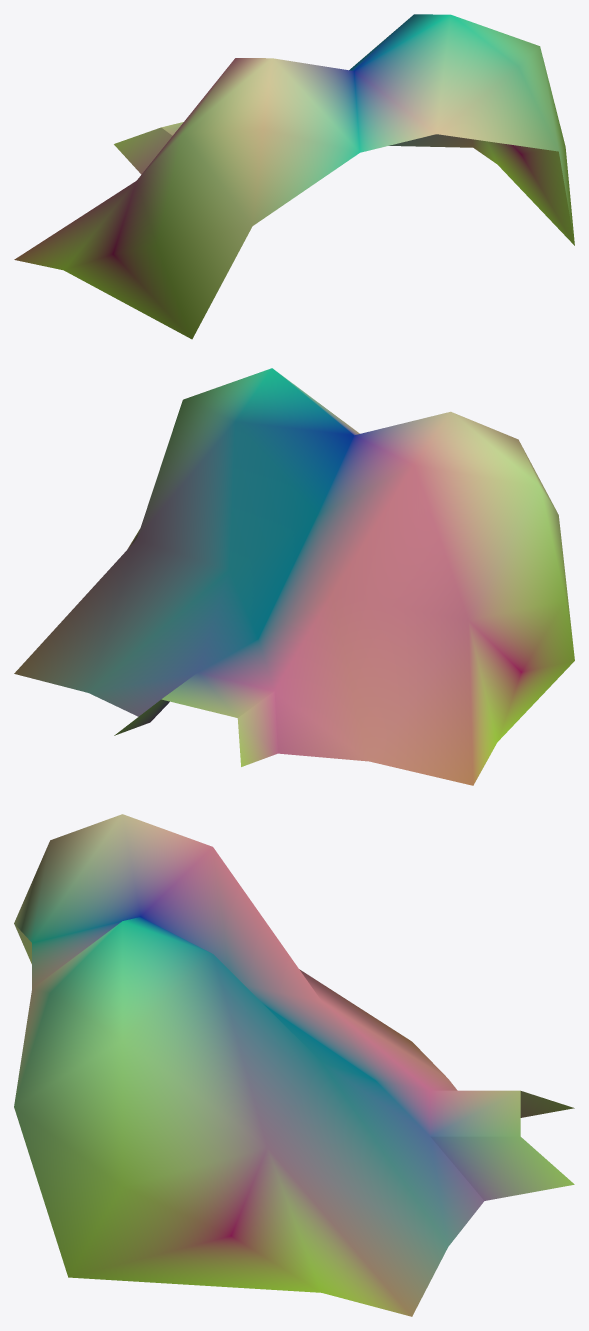
The picture shows the model from 3 angles, top to bottom: view 1: azimuth 30°, elevation 25°; view 2: azimuth 150°, elevation 25°; view 3: azimuth 270°, elevation 25°; orthographic projection. The views are drawn at different scales.
Parts seen in each view (by area): view 1: part; view 2: part; view 3: part.
Part boxes in pixels (x1,y1,x2,y2): part: (14, 14, 574, 339); part: (14, 368, 574, 785); part: (14, 814, 574, 1316).
Bounding box in the file's own units: 36 × 19 × 31.
